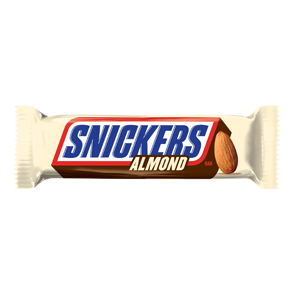snickers: (62, 124, 209, 158)
